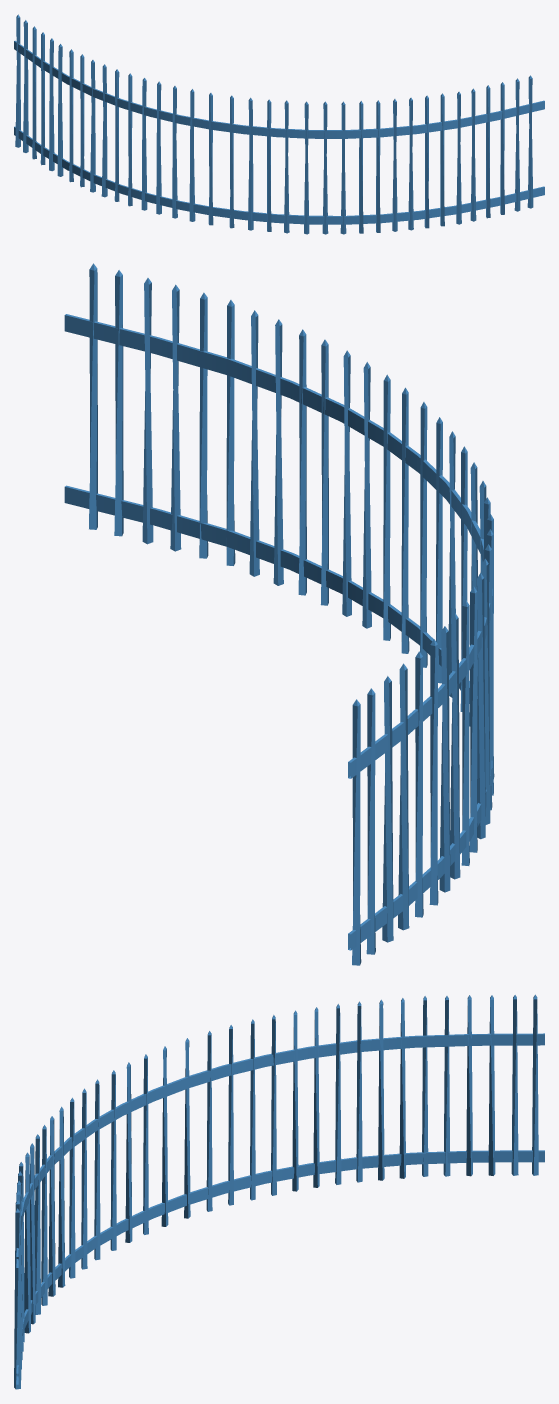
File: Deco_Fence_Bars_Cor_B.fbx
3 renders of one model, top to bottom at view 1: azimuth 30°, elevation 25°; view 2: azimuth 150°, elevation 25°; view 3: azimuth 270°, elevation 25°, orthographic. The views are drawn at different scales.
Parts seen in each view (by area): view 1: Deco_Fence_Bars_Cor_B; view 2: Deco_Fence_Bars_Cor_B; view 3: Deco_Fence_Bars_Cor_B.
Part boxes in pixels (x1,y1,x2,y2): Deco_Fence_Bars_Cor_B: [14, 14, 544, 234]; Deco_Fence_Bars_Cor_B: [64, 263, 494, 965]; Deco_Fence_Bars_Cor_B: [14, 994, 544, 1389].
Bounding box in the file's own units: 856 × 320 × 856.
